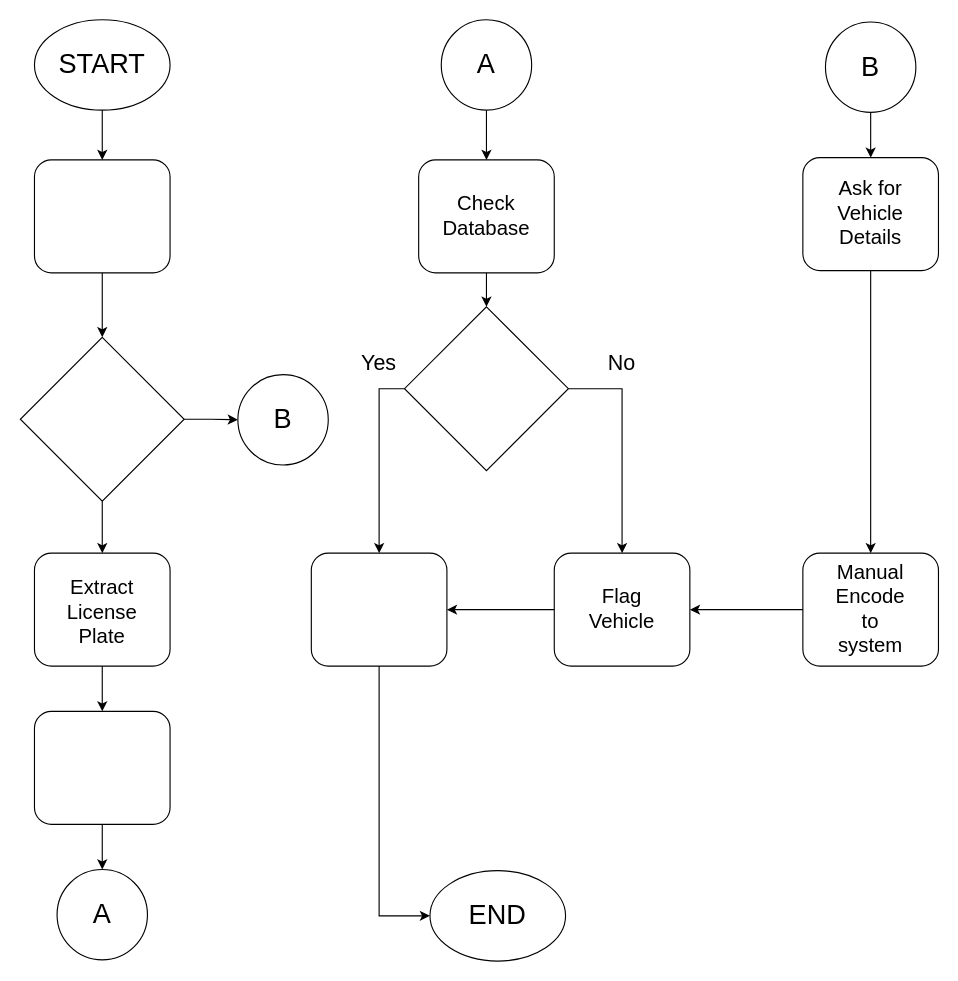
Some shapes in this 958 by 981 pixel diagram are drawn without their labels. The shapes that lost their labels are listed below. From the top down, each one's centre as x and y in pixels, then its label:
At point 101,216: "Capture Frame".
At point 485,388: "Is Registered?".
At point 101,418: "Has License plate?".
At point 378,609: "Log Entry".
At point 101,767: "Recognize Characters".
